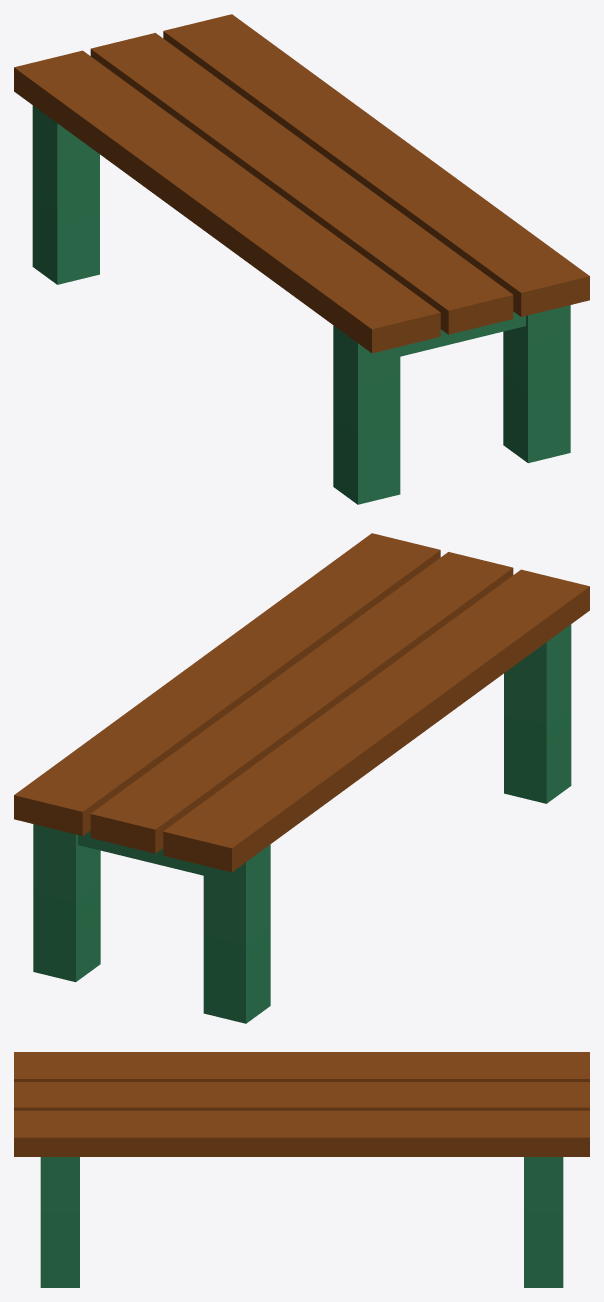
Rendered from Bench_1_C_4.fbx.
3 renders of one model, top to bottom at view 1: azimuth 30°, elevation 25°; view 2: azimuth 150°, elevation 25°; view 3: azimuth 270°, elevation 25°, orthographic. The views are drawn at different scales.
Parts seen in each view (by area): view 1: Bench_1_C_4; view 2: Bench_1_C_4; view 3: Bench_1_C_4.
Boxes of the visible parts, box(x1,y1,x2,y2) form: Bench_1_C_4: box(14, 14, 589, 504); Bench_1_C_4: box(14, 533, 589, 1023); Bench_1_C_4: box(14, 1052, 589, 1287).
Size of the model in its own units: 40.68 by 33.54 by 116.
